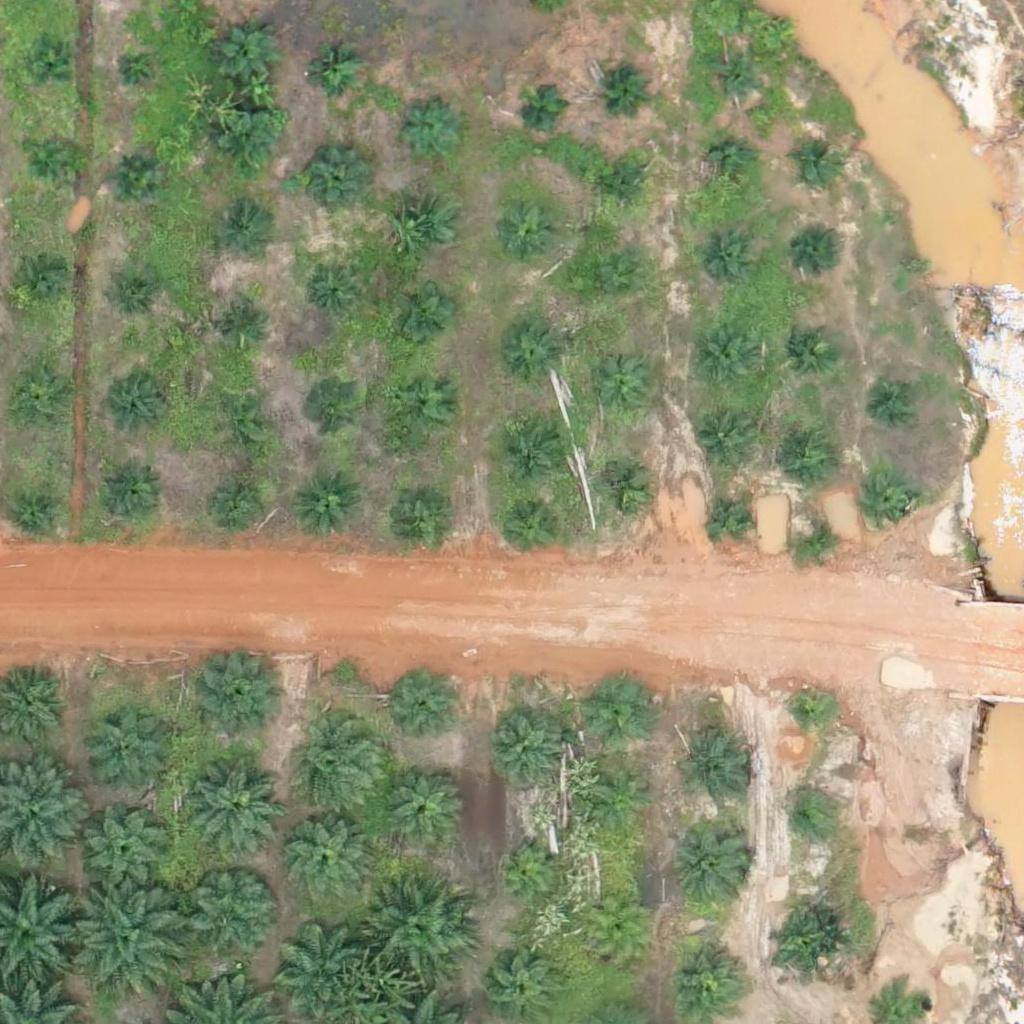Kelapa_Sawit: (69, 868, 194, 994), (366, 880, 466, 980), (288, 716, 388, 816), (183, 749, 283, 849), (189, 866, 277, 954), (197, 650, 285, 738), (78, 806, 166, 894), (286, 816, 373, 905), (274, 923, 361, 1011), (485, 705, 572, 793), (380, 762, 467, 850), (77, 706, 164, 794), (675, 727, 750, 803), (385, 672, 460, 748), (766, 908, 841, 984), (675, 824, 750, 900), (667, 942, 742, 1017), (579, 254, 642, 317), (694, 230, 757, 293), (302, 47, 365, 110), (306, 147, 369, 210), (293, 474, 356, 537), (692, 327, 755, 390), (102, 457, 165, 520), (13, 364, 76, 427), (3, 475, 66, 538), (389, 372, 452, 435), (387, 479, 450, 542), (303, 379, 366, 442), (499, 496, 562, 559), (588, 677, 651, 740), (779, 423, 842, 486), (693, 408, 756, 471), (584, 899, 647, 962), (216, 23, 279, 86), (9, 254, 72, 316), (390, 286, 452, 349), (501, 201, 563, 264), (400, 99, 462, 162), (503, 418, 565, 481), (215, 392, 277, 455), (500, 322, 562, 385), (594, 773, 656, 836), (589, 360, 651, 423), (594, 458, 656, 521), (779, 318, 841, 381), (218, 112, 280, 175), (396, 199, 458, 262), (210, 474, 272, 536), (493, 839, 555, 901), (106, 379, 168, 441), (706, 493, 756, 544), (792, 514, 842, 565), (113, 280, 163, 330), (215, 212, 265, 262), (223, 305, 273, 355), (306, 268, 356, 318), (109, 152, 159, 202), (795, 229, 845, 279), (602, 60, 652, 110), (520, 85, 570, 135), (27, 132, 77, 182), (709, 55, 759, 105), (705, 140, 755, 190), (791, 139, 841, 189), (863, 480, 913, 530), (873, 375, 923, 425), (785, 688, 835, 738), (781, 795, 831, 845), (599, 164, 649, 214), (113, 44, 163, 94), (26, 40, 76, 90)
